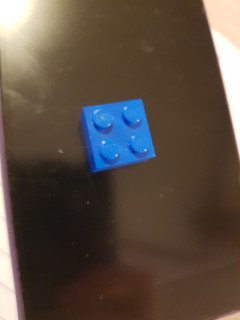2x2 blue: (78, 97, 157, 175)
